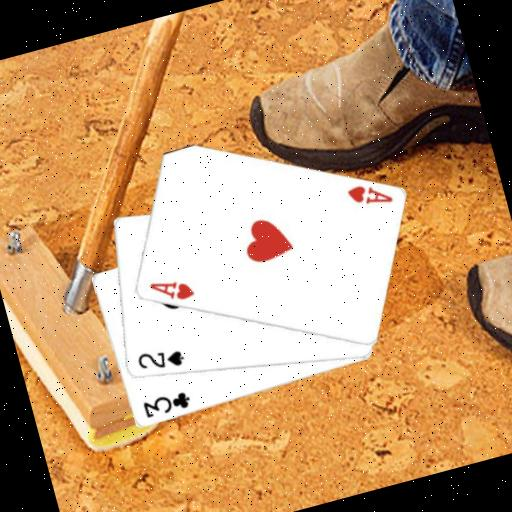2S: (132, 340, 188, 379)
3C: (138, 387, 193, 421)
AH: (342, 175, 395, 215), (145, 270, 197, 310)
